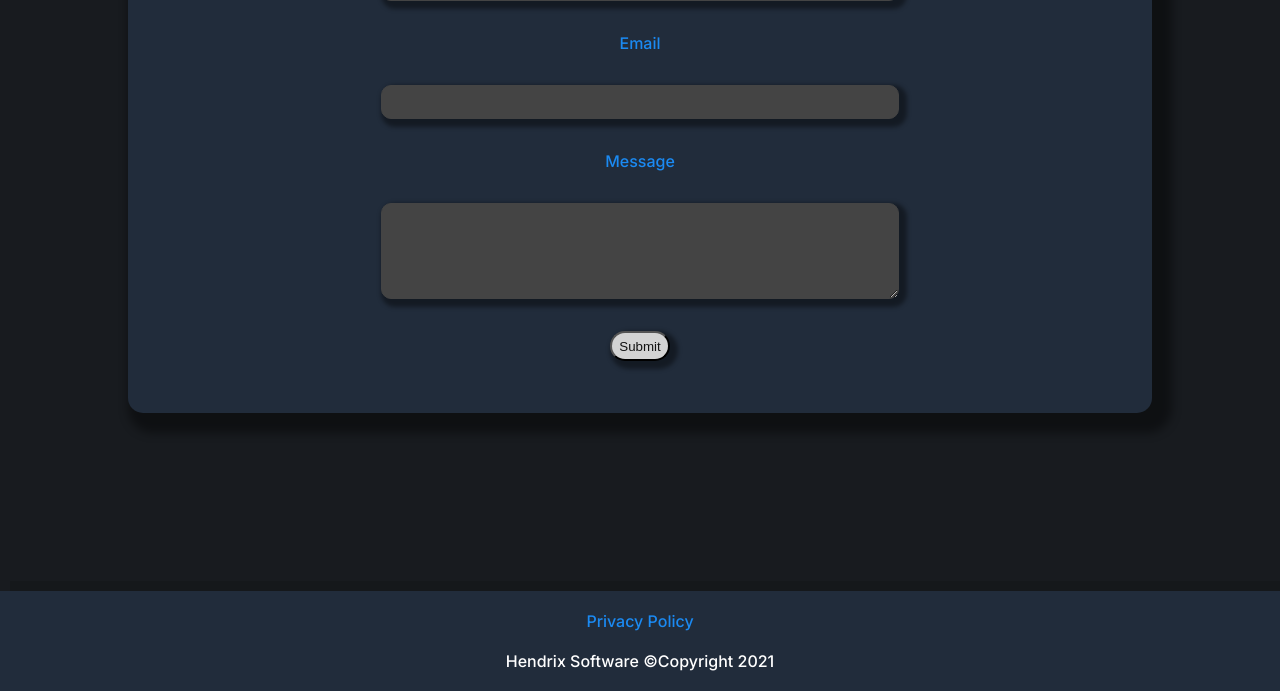
should give error if contact form has no input › give error correctly
This screenshot has width=1280, height=691.
(page scrolled)
What coordinates should you click on to do the following:
click the button with id "submitButton"
I would click on:
 (640, 346)
Its box is [610,331,670,361].
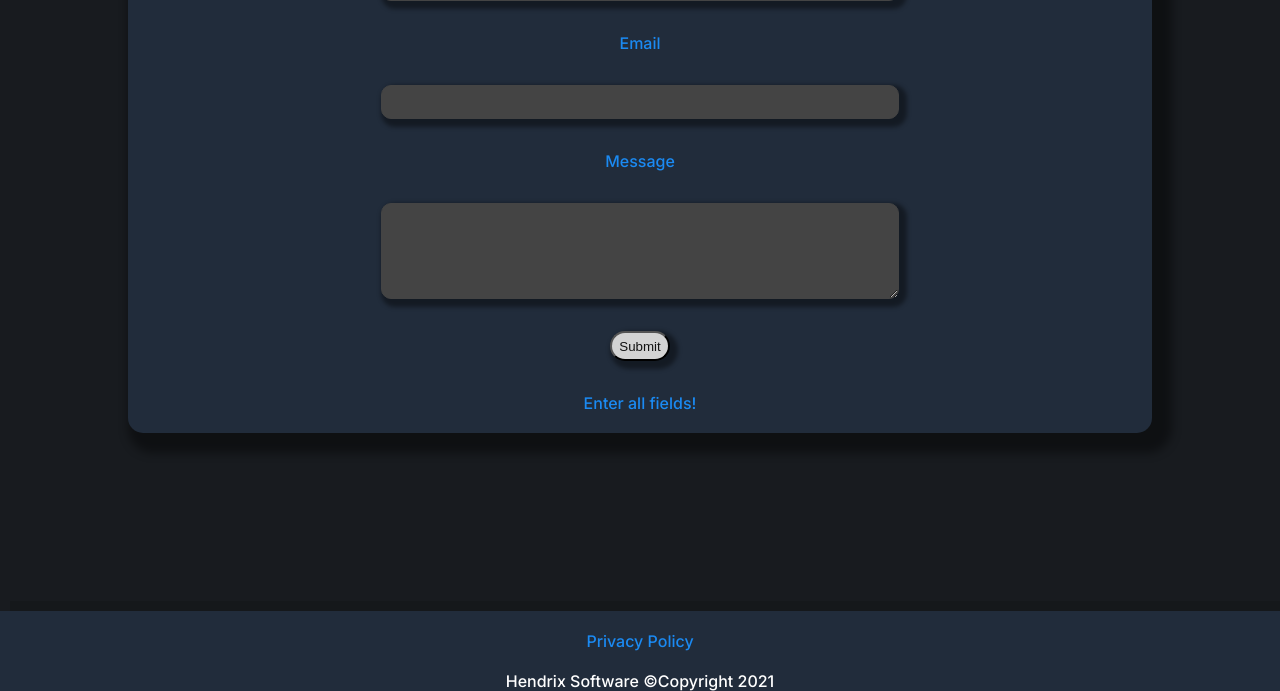
Result: the text "Enter all fields!" is shown at [584,393,696,413]
